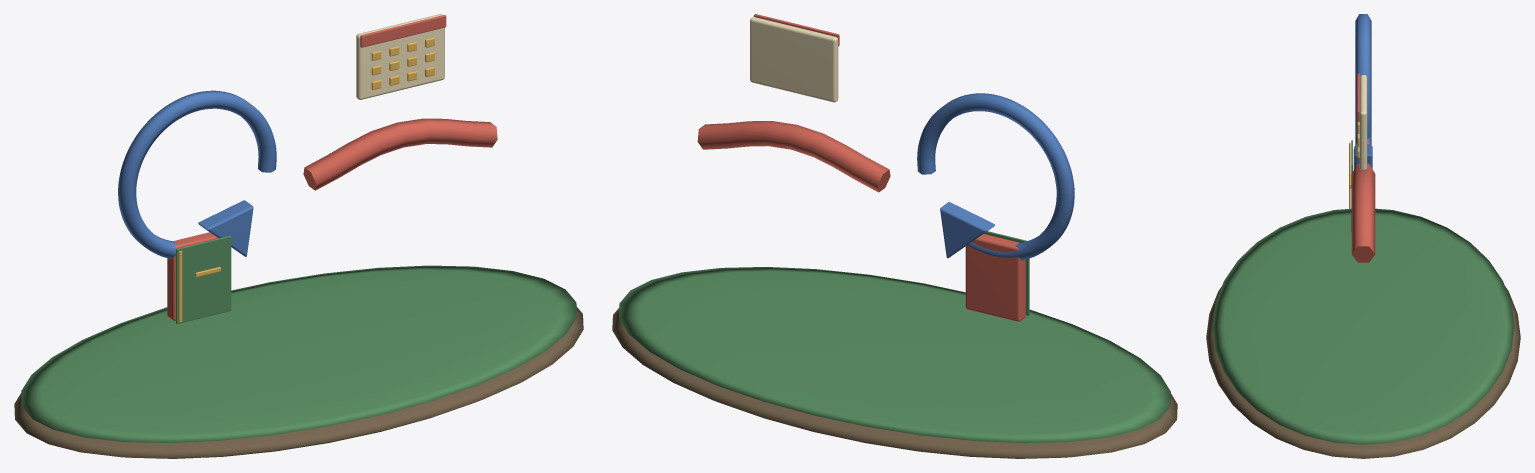
The model's file is complete-second-week-end.glb.
3 renders of one model, left to right at view 1: azimuth 30°, elevation 25°; view 2: azimuth 150°, elevation 25°; view 3: azimuth 270°, elevation 25°, orthographic. The views are drawn at different scales.
Visible parts, largest first — view 1: complete-second-week-end_surface_01, complete-second-week-end_surface_00, complete-second-week-end_surface_02, complete-second-week-end_surface_03, complete-second-week-end_surface_04, complete-second-week-end_surface_05; view 2: complete-second-week-end_surface_01, complete-second-week-end_surface_03, complete-second-week-end_surface_00, complete-second-week-end_surface_02, complete-second-week-end_surface_04; view 3: complete-second-week-end_surface_01, complete-second-week-end_surface_00, complete-second-week-end_surface_03, complete-second-week-end_surface_02, complete-second-week-end_surface_04.
Part boxes in pixels (x1=…): complete-second-week-end_surface_01: x1=21, y1=235, x2=576, y2=442; complete-second-week-end_surface_00: x1=14, y1=307, x2=583, y2=458; complete-second-week-end_surface_02: x1=118, y1=90, x2=276, y2=258; complete-second-week-end_surface_03: x1=167, y1=15, x2=497, y2=320; complete-second-week-end_surface_04: x1=356, y1=14, x2=444, y2=99; complete-second-week-end_surface_05: x1=178, y1=37, x2=434, y2=322; complete-second-week-end_surface_01: x1=619, y1=231, x2=1170, y2=443; complete-second-week-end_surface_03: x1=697, y1=14, x2=1025, y2=321; complete-second-week-end_surface_00: x1=612, y1=308, x2=1177, y2=458; complete-second-week-end_surface_02: x1=917, y1=93, x2=1074, y2=260; complete-second-week-end_surface_04: x1=750, y1=17, x2=838, y2=102; complete-second-week-end_surface_01: x1=1212, y1=140, x2=1514, y2=444; complete-second-week-end_surface_00: x1=1206, y1=286, x2=1520, y2=458; complete-second-week-end_surface_03: x1=1351, y1=73, x2=1375, y2=262; complete-second-week-end_surface_02: x1=1354, y1=14, x2=1372, y2=168; complete-second-week-end_surface_04: x1=1353, y1=75, x2=1367, y2=170.
Size of the model in its own units: 4.56 by 2.68 by 2.5.
